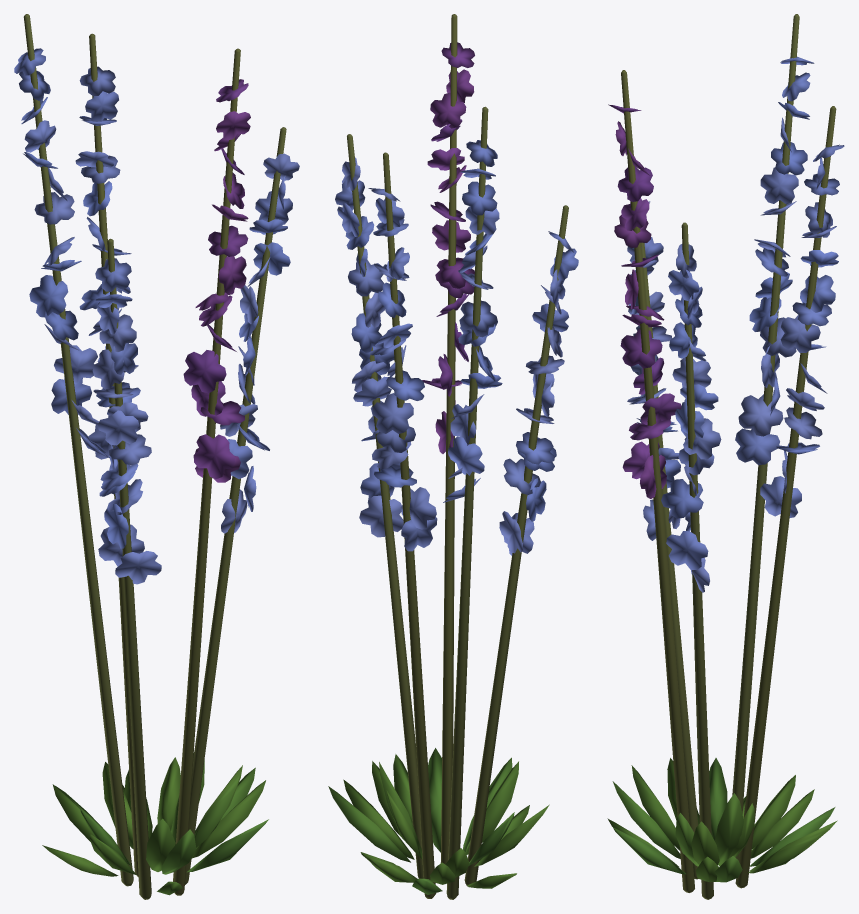
Rendered from bed_delphinium.glb.
The picture shows the model from 3 angles, left to right: view 1: azimuth 30°, elevation 25°; view 2: azimuth 150°, elevation 25°; view 3: azimuth 270°, elevation 25°; orthographic projection. The views are drawn at different scales.
Parts seen in each view (by area): view 1: Sammel Pflanze, Sammel Putz; view 2: Sammel Pflanze, Sammel Putz; view 3: Sammel Pflanze, Sammel Putz.
Boxes of the visible parts, x1,y1,x2,y2 form: Sammel Pflanze: (14,48,299,895); Sammel Putz: (23,14,286,899); Sammel Pflanze: (328,42,578,894); Sammel Putz: (347,14,568,899); Sammel Pflanze: (607,56,844,882); Sammel Putz: (621,14,836,899).
Bounding box in the file's own units: 0.2737 × 1.01 × 0.2597.
